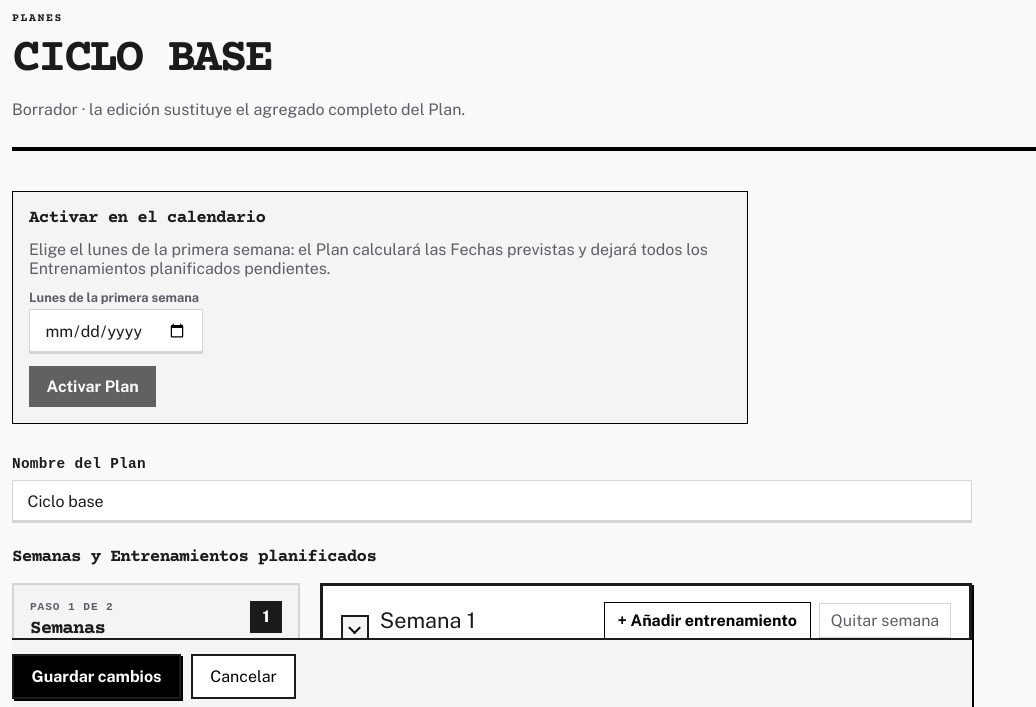
it: activar un Plan borrador › un conflicto de unicidad muestra el mensaje del servidor sin salir del borrador
The image size is (1036, 707).
In the date field labelled "Lunes de la primera semana": coordinates (116, 331) [29, 309, 203, 354], type "2025-08-04"
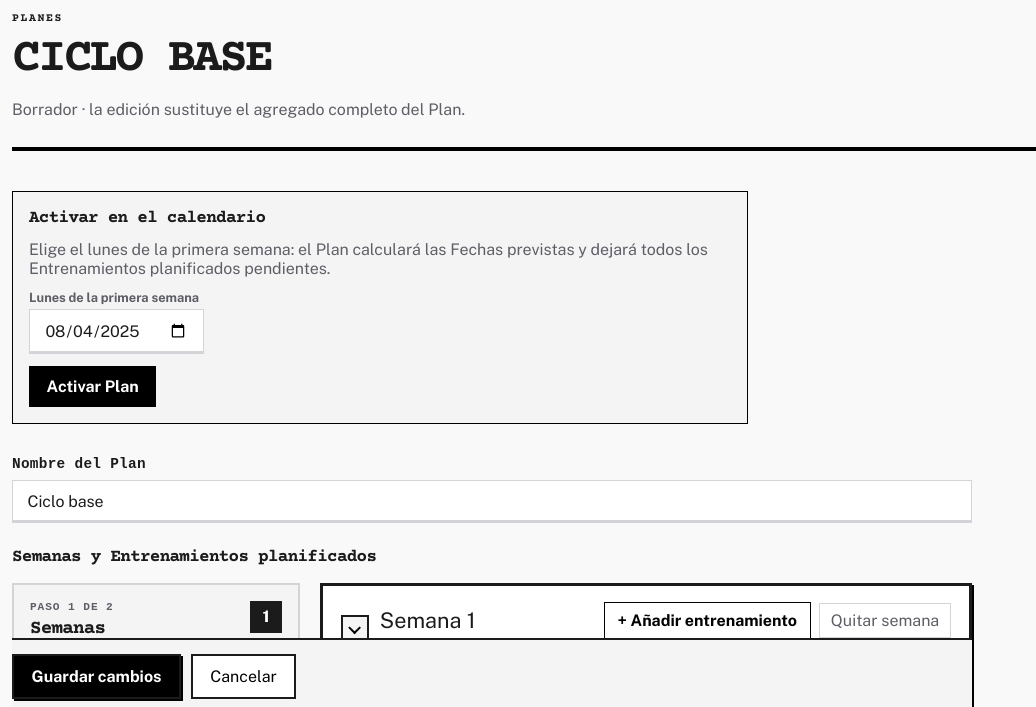
Click the button "Activar Plan": coordinates (93, 387) [29, 366, 156, 407]
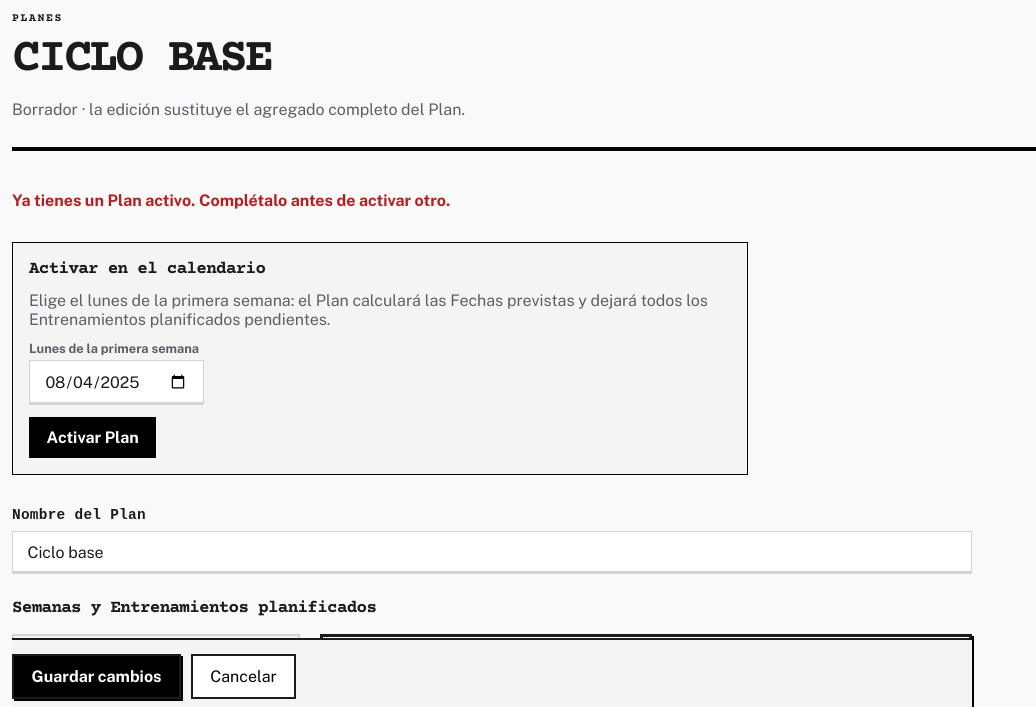
Check: the heading "Activar en el calendario" is shown, box [29, 259, 265, 279]
Check: the message shows "Ya tienes un Plan activo", box [12, 191, 450, 210]
